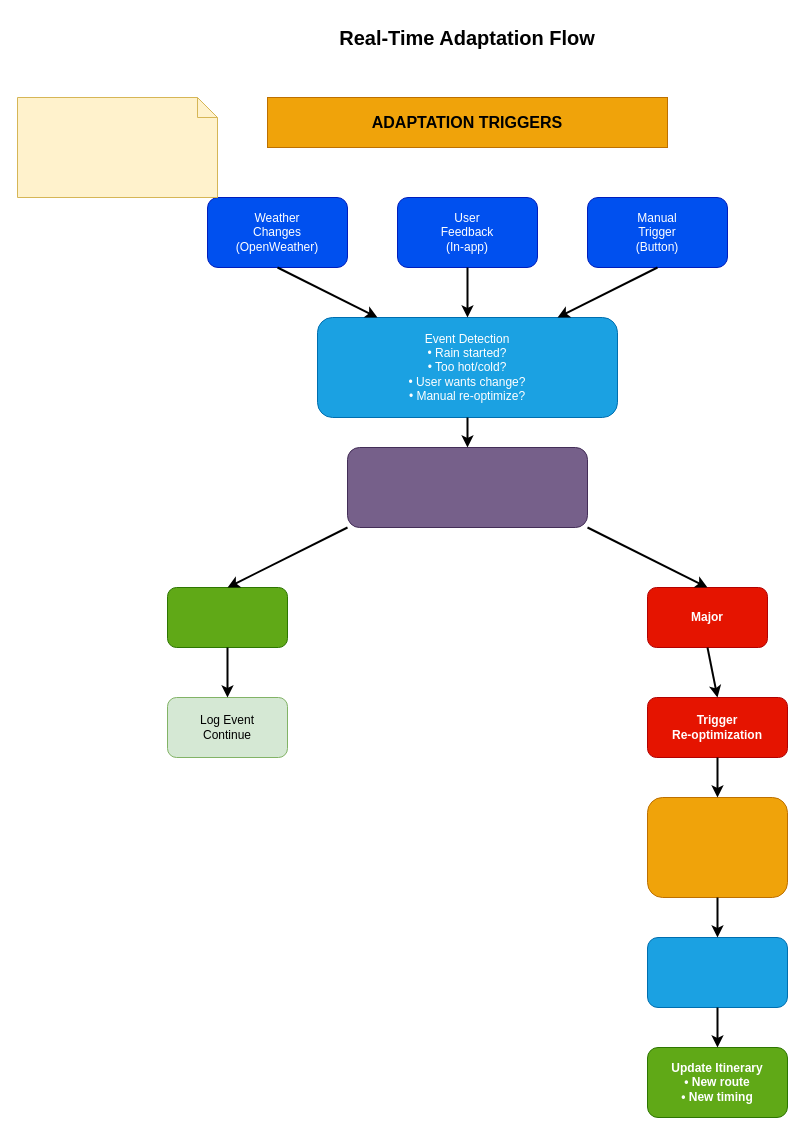
Some shapes in this 805 by 1135 pixel diagram are drawn without their labels. Each missing label, with the box of its shape:
Generate Alternatives • Skip POI • Reorder • Replace: (646, 796, 788, 898)
Minor: (166, 586, 288, 648)
NOTE: Traffic and crowd density monitoring NOT implemented per project scope.: (16, 96, 218, 198)
Notify User • Show options • Request choice: (646, 936, 788, 1008)
Severity Assessment • Minor: Log only • Major: Adapt route • Critical: Alert: (346, 446, 588, 528)
